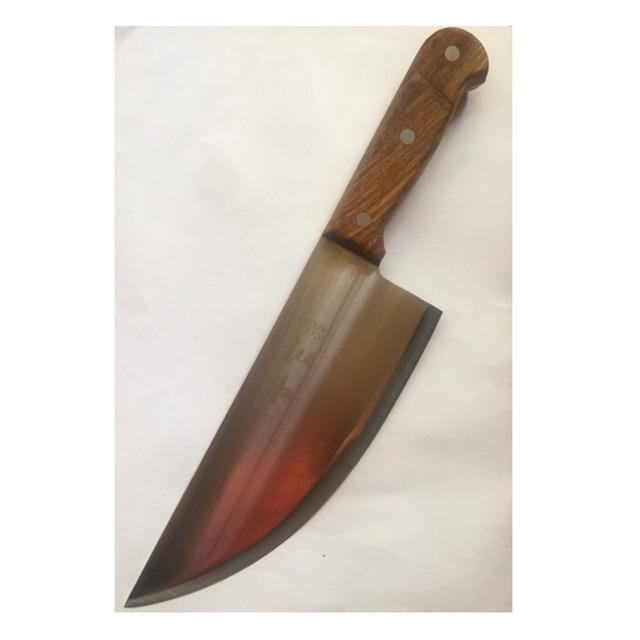Pisau: (122, 26, 499, 613)
